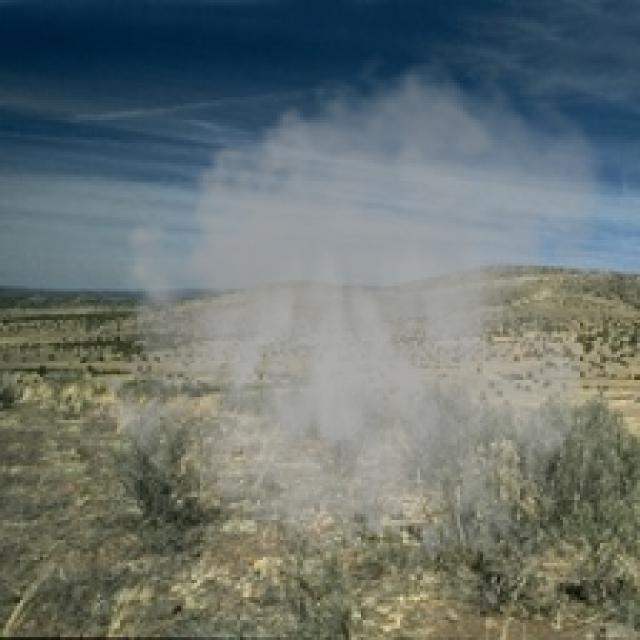Smoke: (88, 43, 618, 603)
